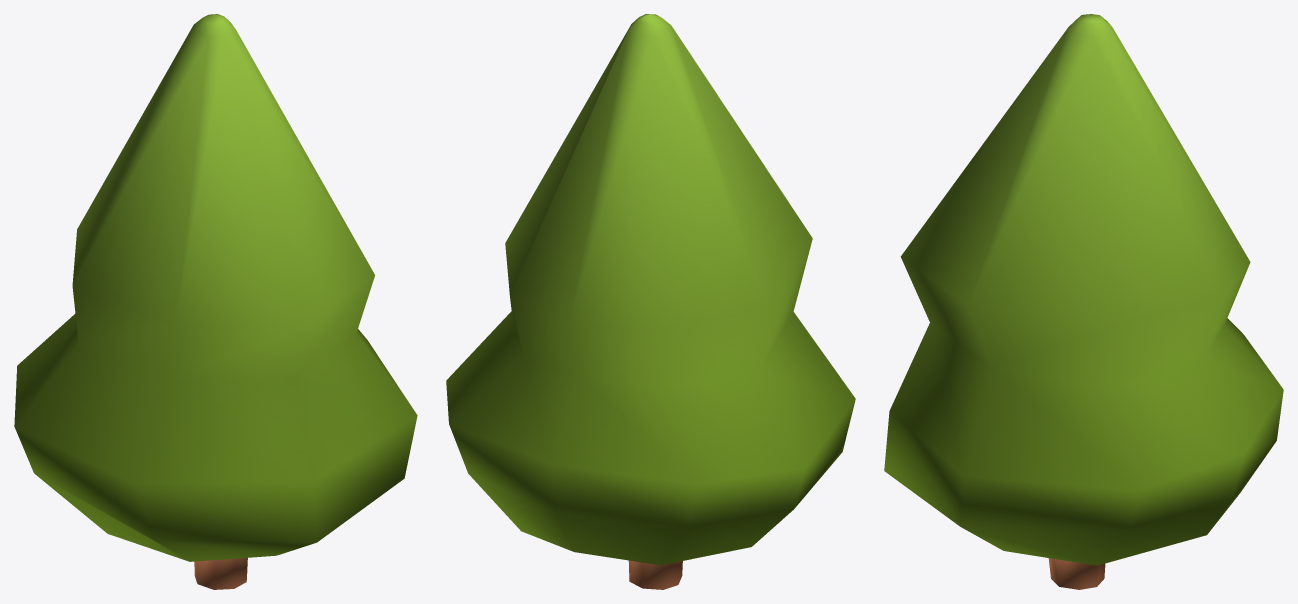
Rendered from Pine_M.fbx.
3 renders of one model, left to right at view 1: azimuth 30°, elevation 25°; view 2: azimuth 150°, elevation 25°; view 3: azimuth 270°, elevation 25°, orthographic.
Parts seen in each view (by area): view 1: Tree_M; view 2: Tree_M; view 3: Tree_M.
Part boxes in pixels (box(x1,y1,x2,y2)): Tree_M: box(14, 14, 417, 589); Tree_M: box(446, 14, 855, 589); Tree_M: box(884, 14, 1283, 589).
Size of the model in its own units: 42.24 by 63.84 by 41.01.
Materials: 1 (1 with a texture image).
